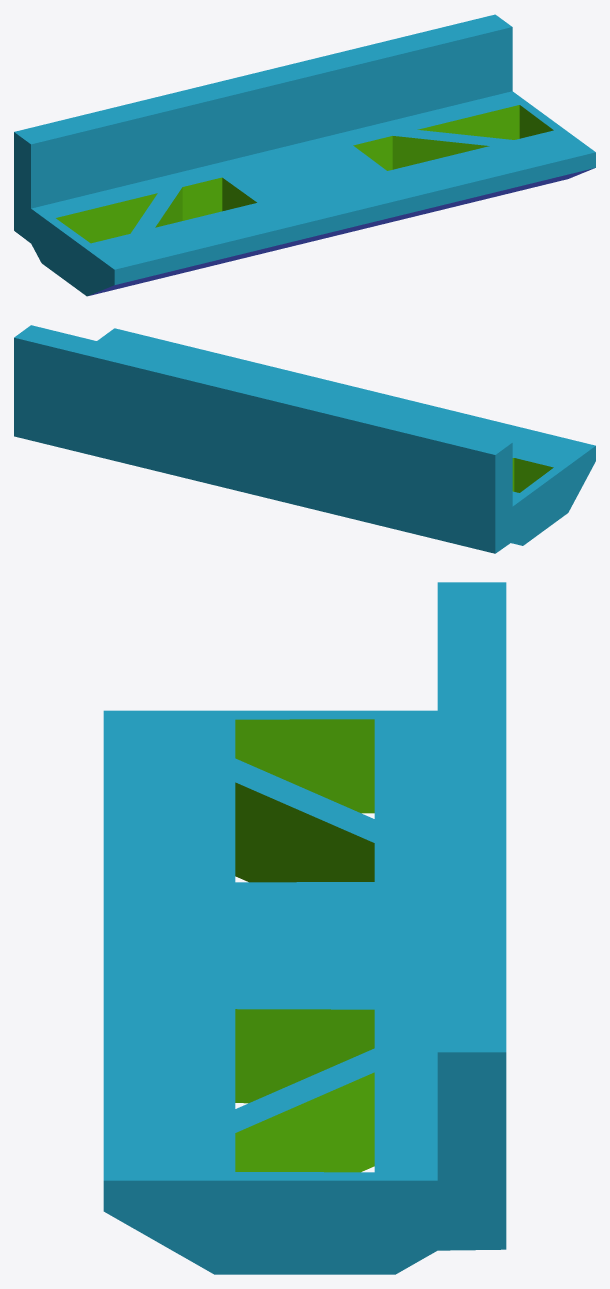
File: menu_ornimentation_a_001.fbx
The picture shows the model from 3 angles, top to bottom: view 1: azimuth 30°, elevation 25°; view 2: azimuth 150°, elevation 25°; view 3: azimuth 270°, elevation 25°; orthographic projection. The views are drawn at different scales.
Parts seen in each view (by area): view 1: Cube.000; view 2: Cube.000; view 3: Cube.000.
Part boxes in pixels (x1,y1,x2,y2): Cube.000: (14, 14, 595, 296); Cube.000: (14, 325, 595, 553); Cube.000: (103, 582, 506, 1274).
Bounding box in the file's own units: 399 × 88.1 × 144.
